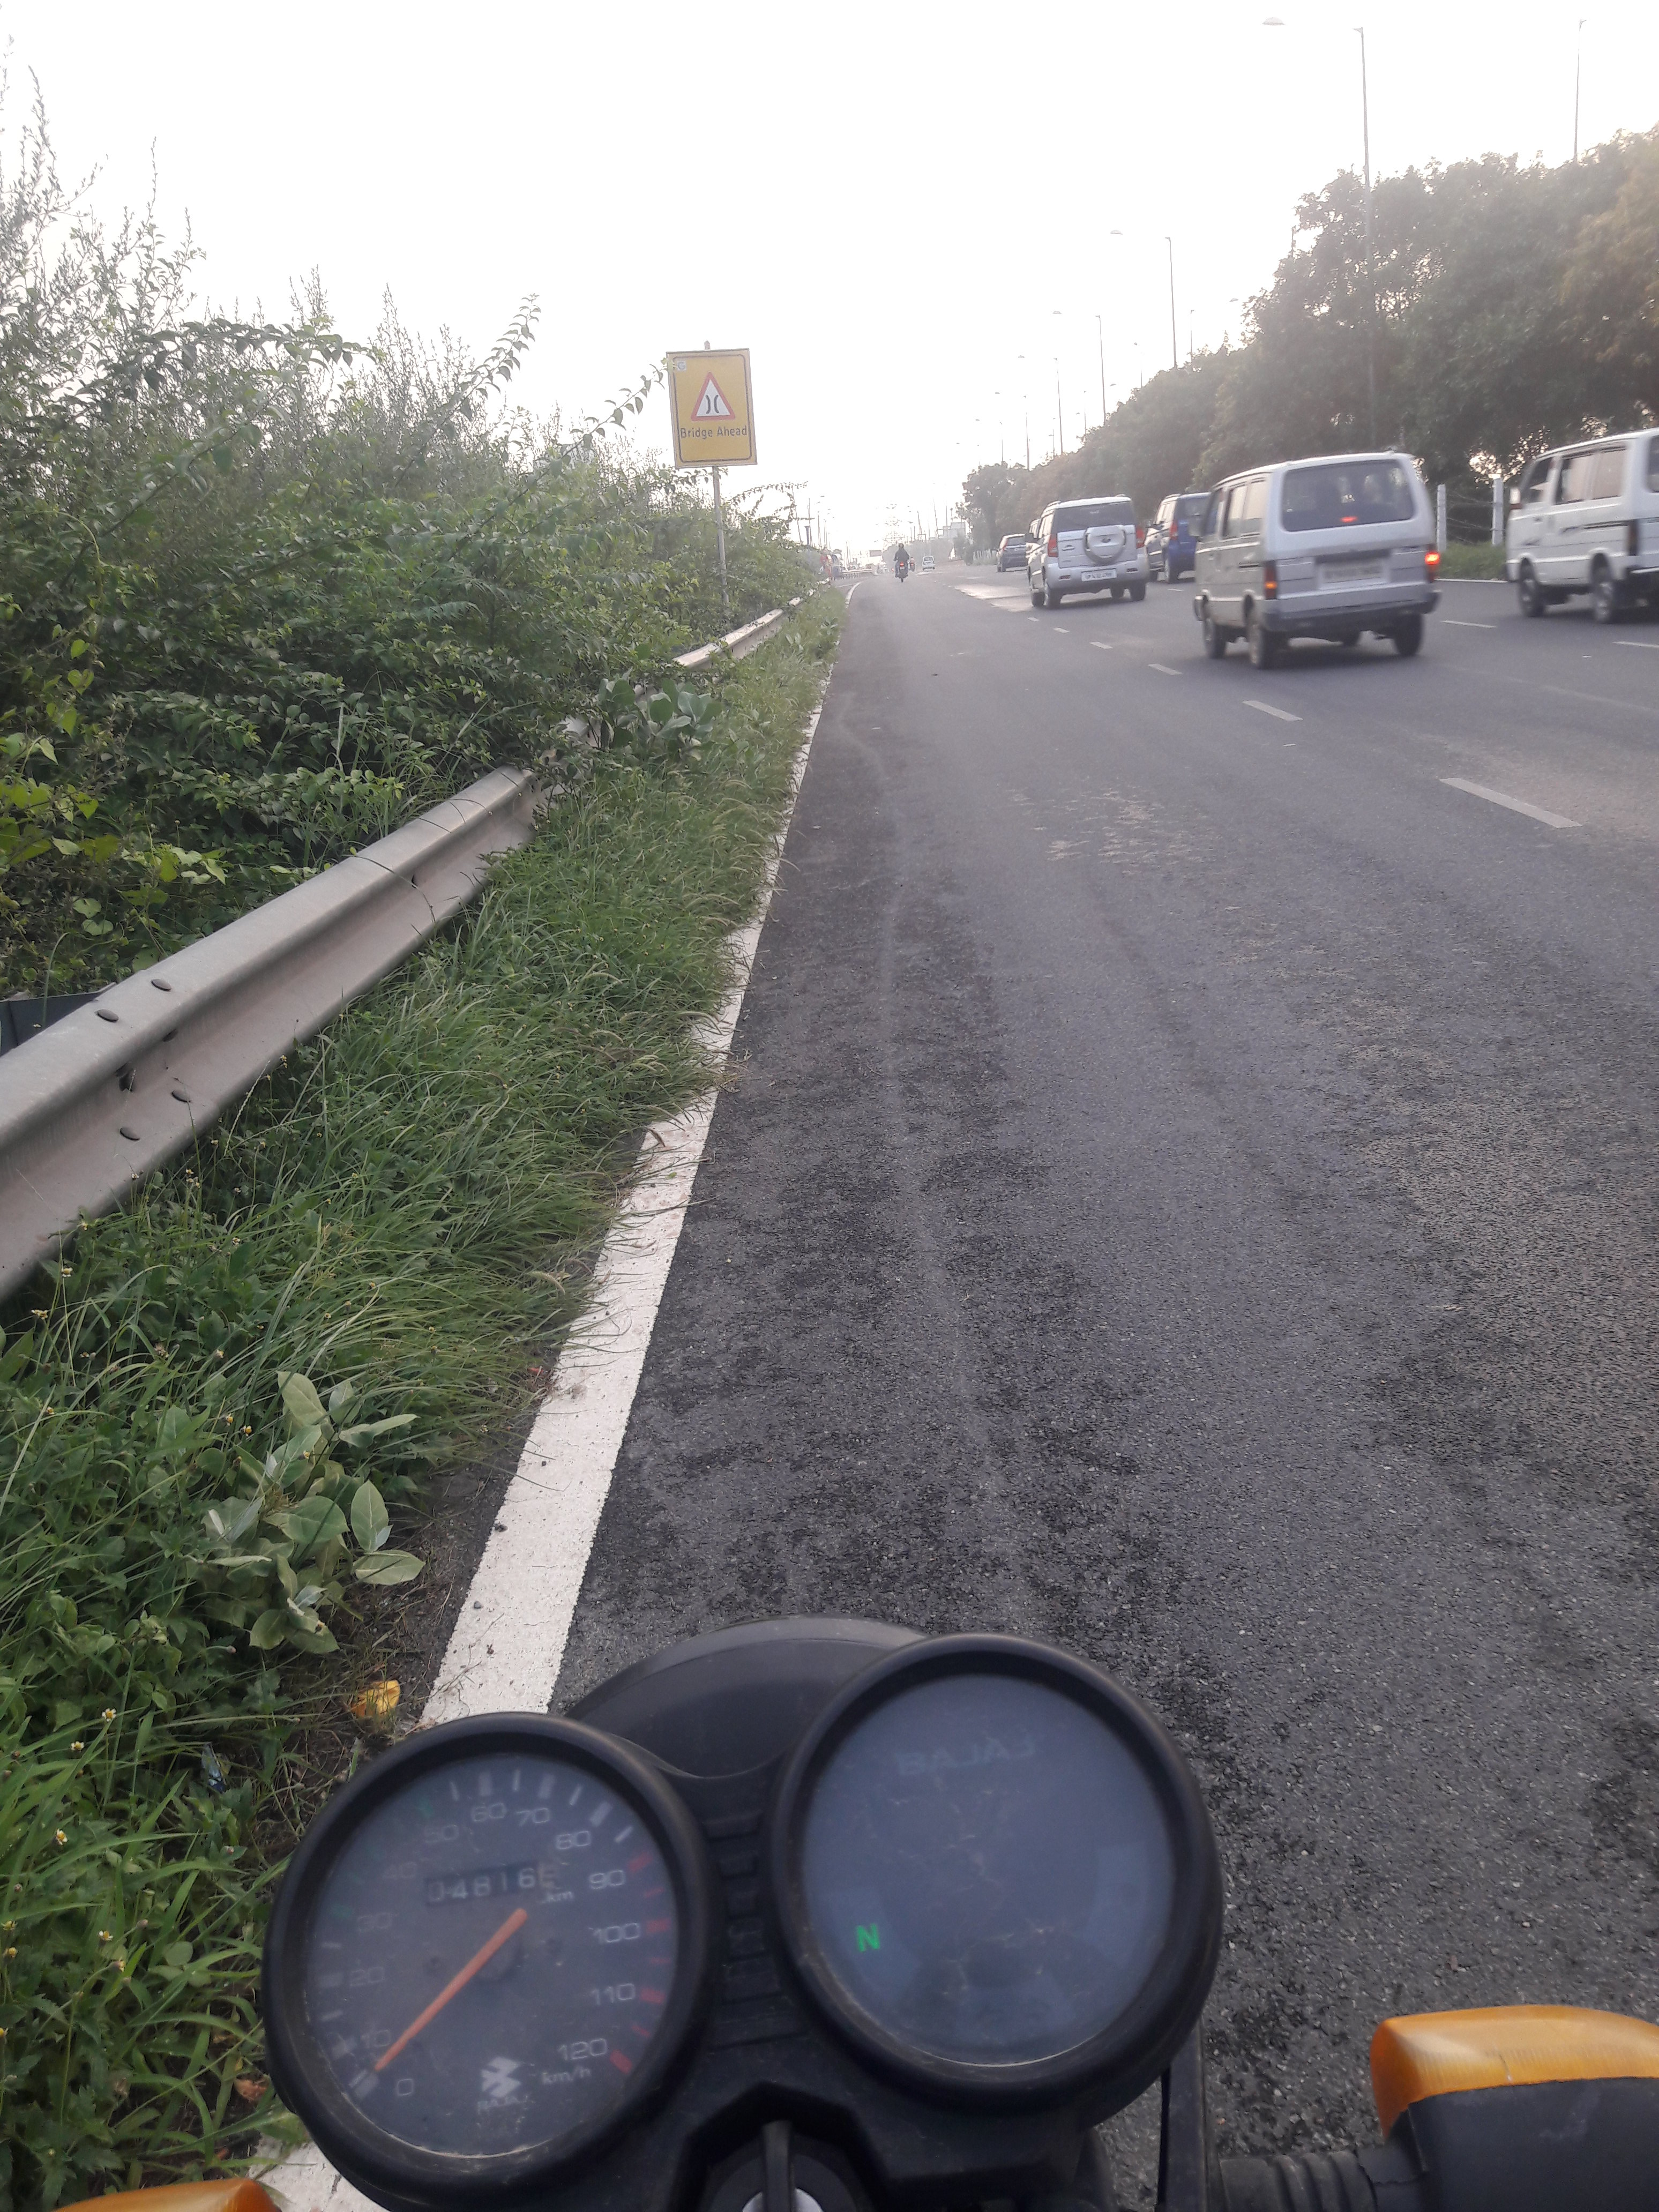traffic_sign: (666, 348, 756, 469)
